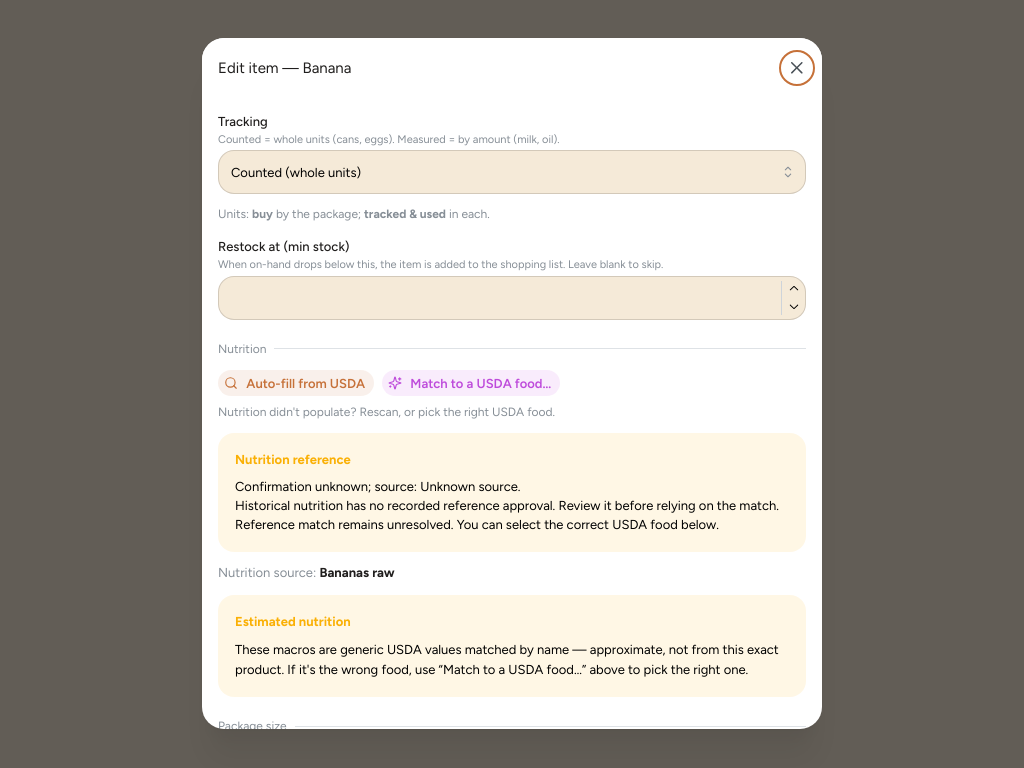
Test: nutrition reference review › only an explicit picker choice applies a reference and refreshes provenance
This screenshot has width=1024, height=768.
(page scrolled)
Click the button "Match to a USDA food…" at [471, 384], box [382,371,560,397]
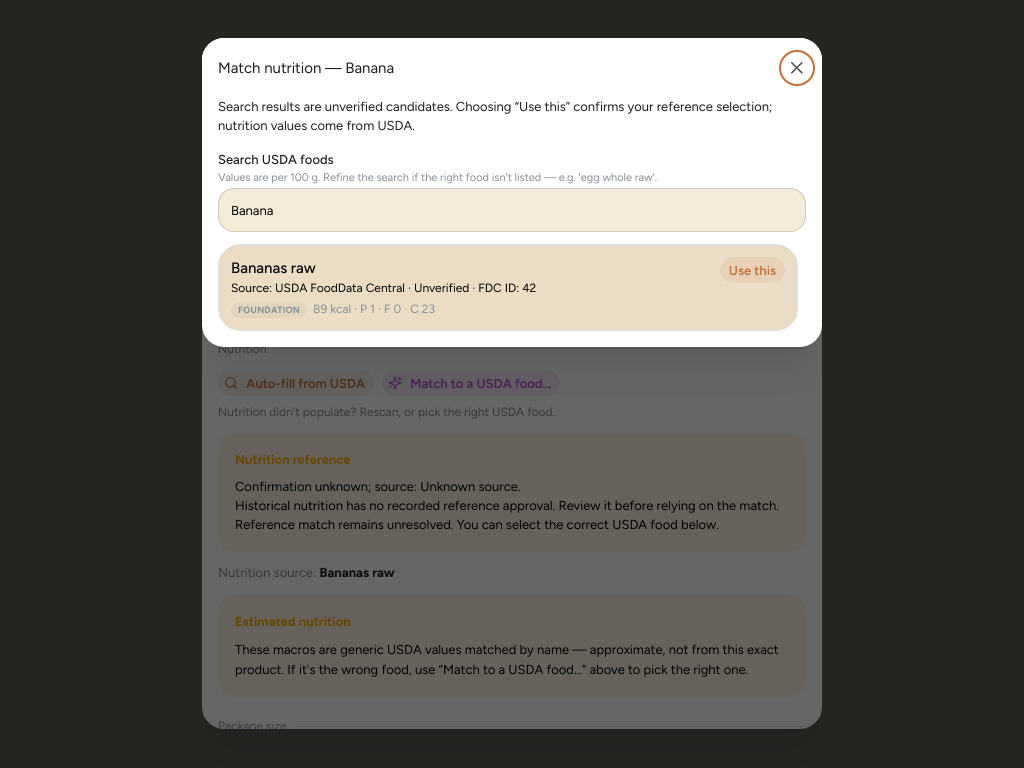
Expected: the text "Source: USDA FoodData Central · Unverified · FDC ID: 42" is shown, [231,281,536,298]
Click the button "Use this" at [752, 270], box [720,258,785,284]
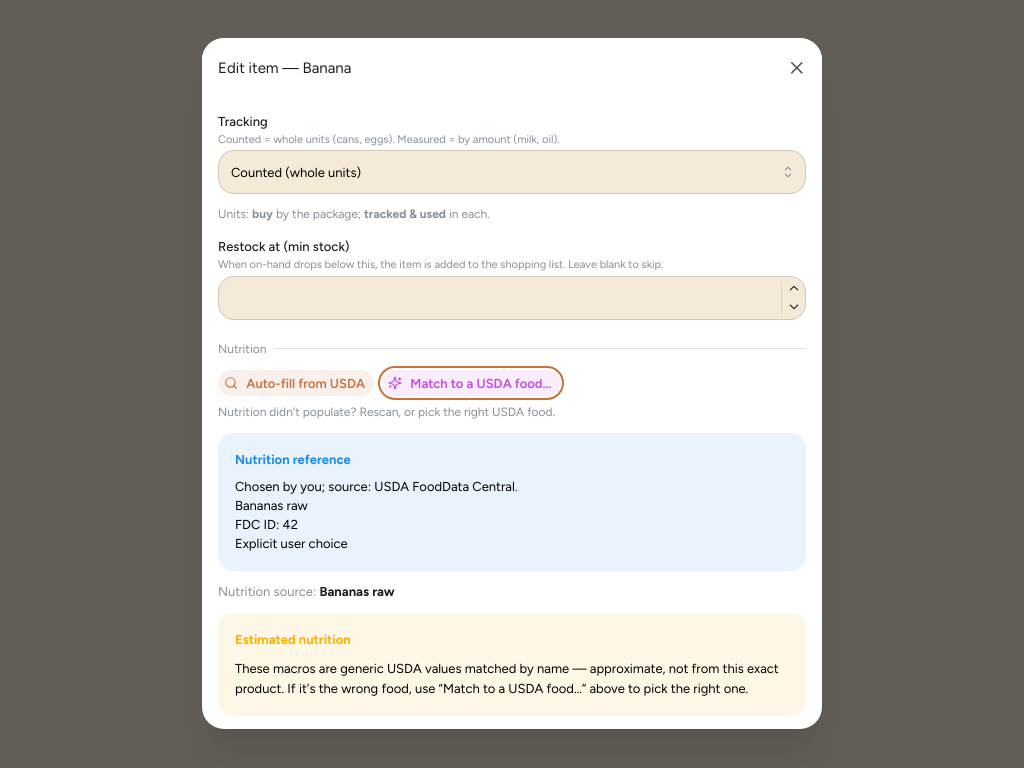
Expected: the text "Chosen by you; source: USDA FoodData Central." is shown, [235,480,518,495]
